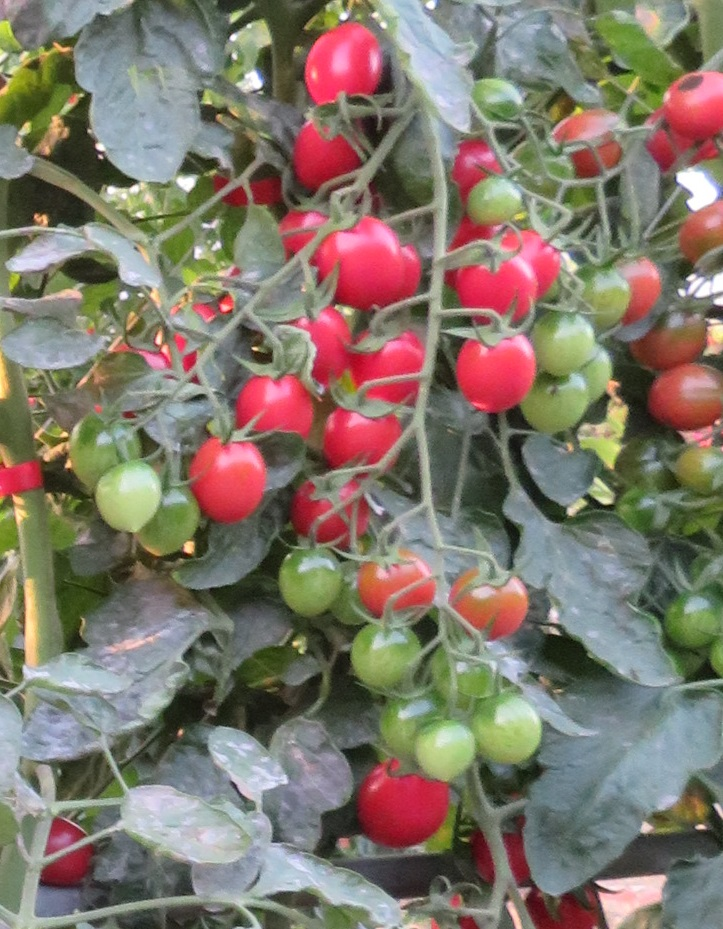green: (469, 691, 545, 765), (93, 460, 160, 539), (275, 541, 342, 619), (348, 620, 428, 684), (523, 378, 596, 438), (371, 691, 444, 751), (536, 314, 600, 381), (144, 489, 203, 557), (412, 721, 474, 782), (662, 584, 723, 641), (571, 259, 630, 315), (69, 417, 143, 460), (473, 66, 527, 116), (465, 183, 529, 224), (679, 441, 723, 484)
orange: (447, 559, 529, 650), (549, 104, 633, 178), (628, 301, 715, 367), (355, 551, 445, 614), (647, 369, 723, 428), (677, 199, 723, 273)
red: (354, 763, 459, 848), (189, 436, 270, 531), (300, 23, 384, 109), (319, 209, 409, 289), (454, 333, 536, 417), (288, 472, 373, 544), (347, 335, 428, 400), (237, 371, 316, 436), (318, 404, 400, 466), (294, 121, 367, 189), (457, 257, 539, 317), (654, 68, 723, 138), (308, 293, 355, 381), (45, 822, 95, 885)
